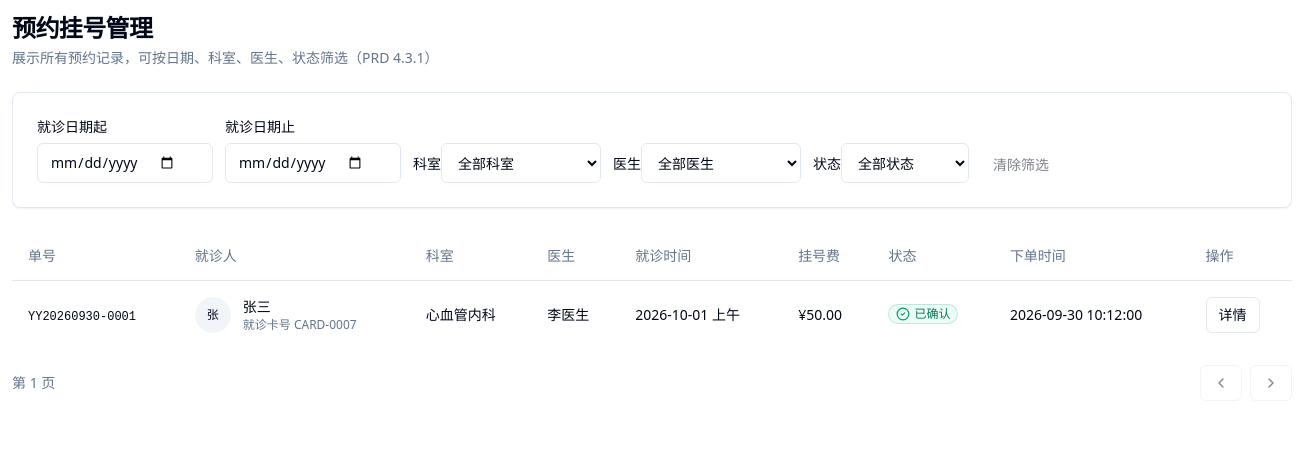
Scenario: RegistrationDetailPage › 详情把退款单三键摊开给管理员看
Click the link "详情".
click(1232, 314)  # box [1206,296,1260,332]
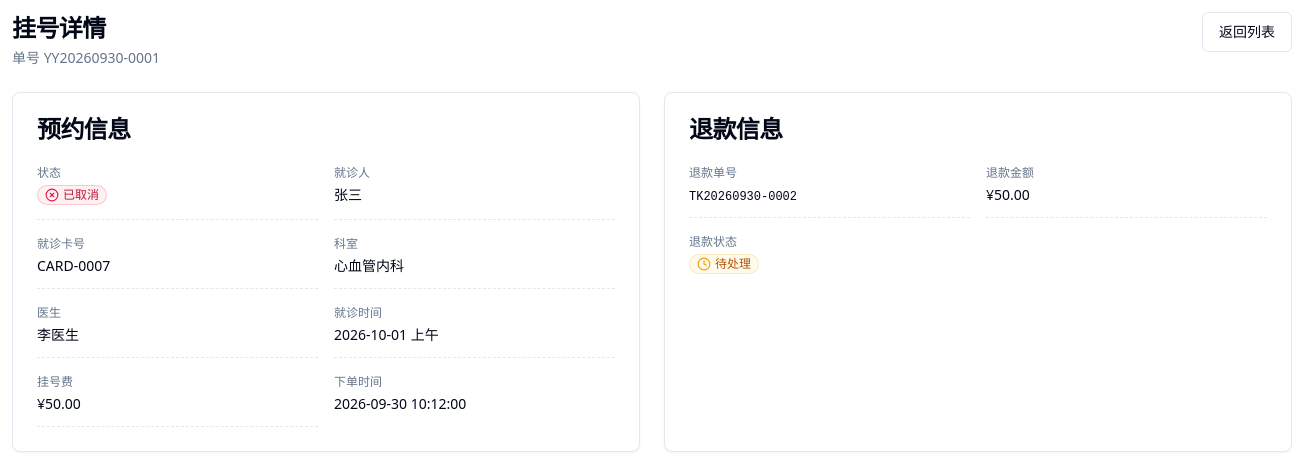
Expected: the text "TK20260930-0002" is shown, [689,190,797,204]
Expected: the text "退款金额" is shown, [986,164,1034,181]
Expected: the text "¥50.00" below "挂号费" is shown, [37,394,81,413]
